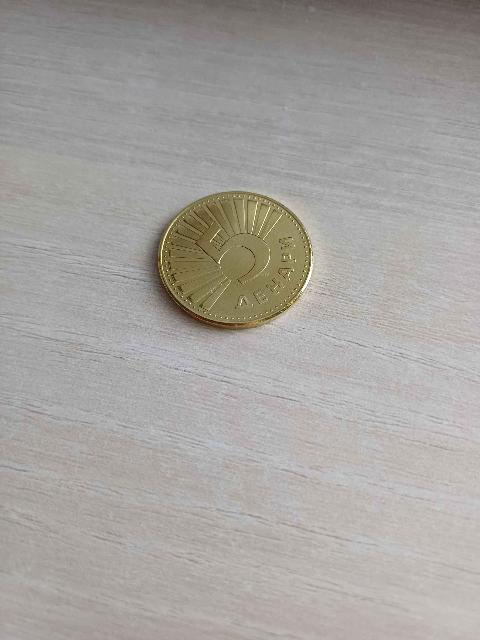5_coin: (158, 192, 312, 328)
